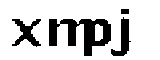j: (110, 6, 137, 57)
m: (46, 14, 91, 49)
p: (82, 17, 113, 60)
x: (8, 14, 40, 53)
